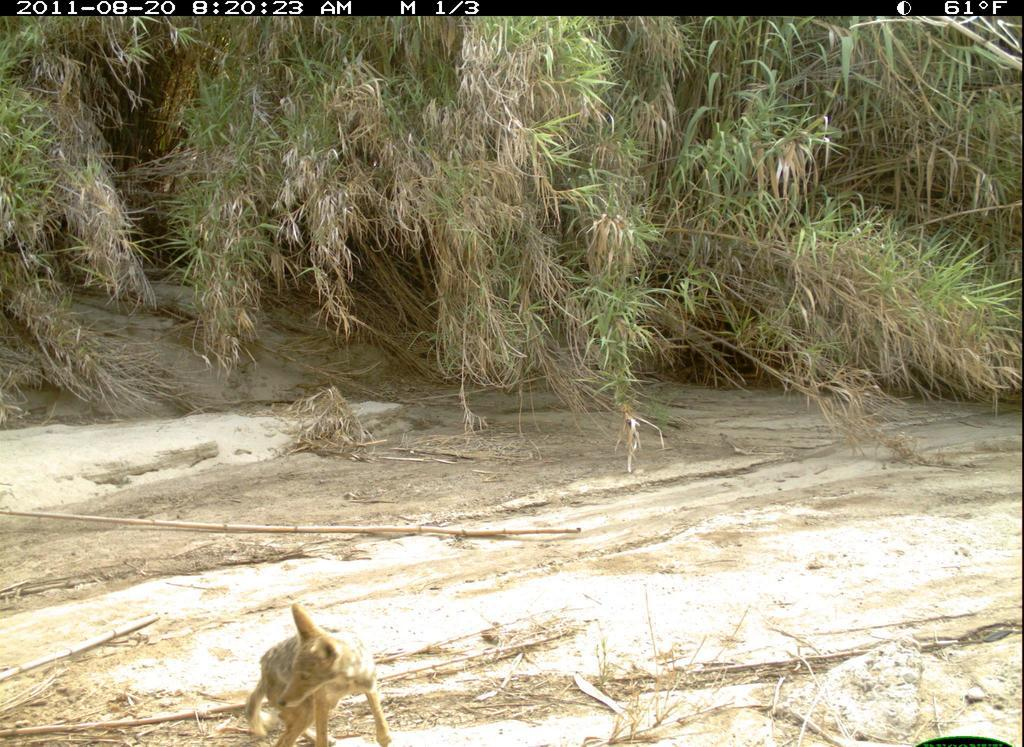coyote: (237, 594, 406, 747)
